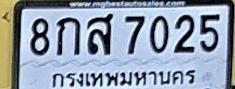0: (150, 15, 168, 53)
2: (174, 14, 194, 52)
5: (200, 14, 220, 52)
7: (125, 15, 144, 54)
8: (30, 17, 49, 55)
A01: (56, 16, 80, 55)
A40: (87, 13, 113, 54)
BKK: (47, 64, 196, 89)
